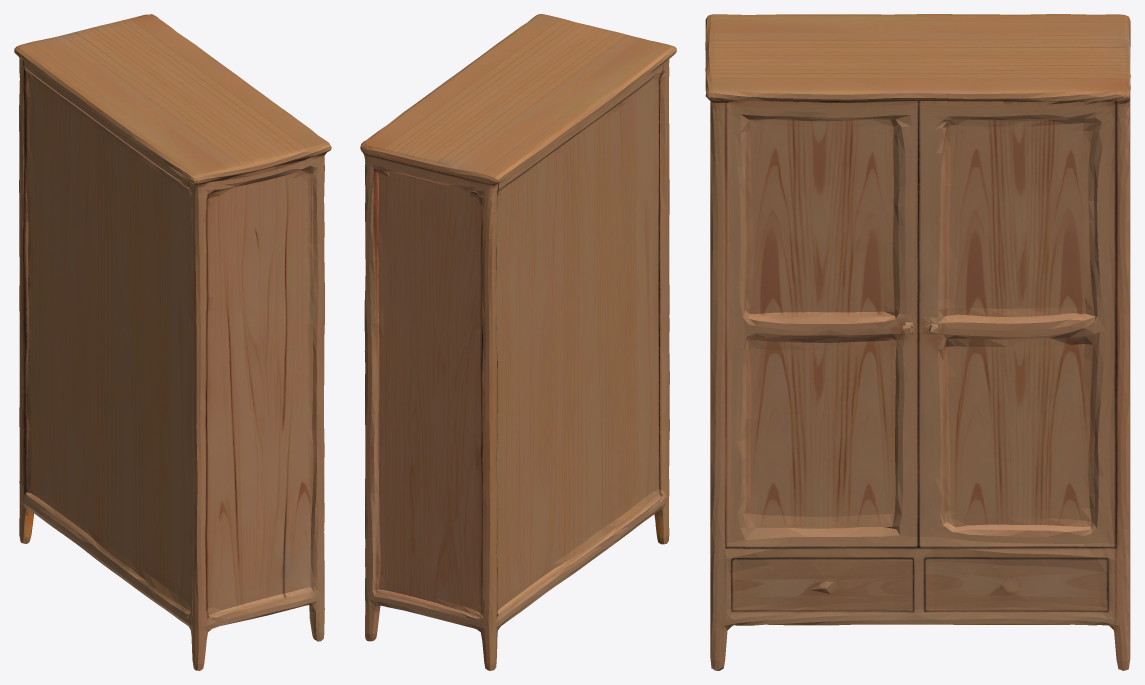
File: cupboard1.glb
3 renders of one model, left to right at view 1: azimuth 30°, elevation 25°; view 2: azimuth 150°, elevation 25°; view 3: azimuth 270°, elevation 25°, orthographic. The views are drawn at different scales.
Visible parts, largest first — view 1: tripo_node_e02f65aa-b527-4d36-ad38-c18c593a315a; view 2: tripo_node_e02f65aa-b527-4d36-ad38-c18c593a315a; view 3: tripo_node_e02f65aa-b527-4d36-ad38-c18c593a315a.
Part boxes in pixels (bbox=[...]): tripo_node_e02f65aa-b527-4d36-ad38-c18c593a315a: bbox=[14, 14, 331, 670]; tripo_node_e02f65aa-b527-4d36-ad38-c18c593a315a: bbox=[360, 14, 676, 670]; tripo_node_e02f65aa-b527-4d36-ad38-c18c593a315a: bbox=[705, 14, 1130, 670].
Bounding box in the file's own units: 0.303 × 0.9997 × 0.6601.
1 material, 1 textured.
